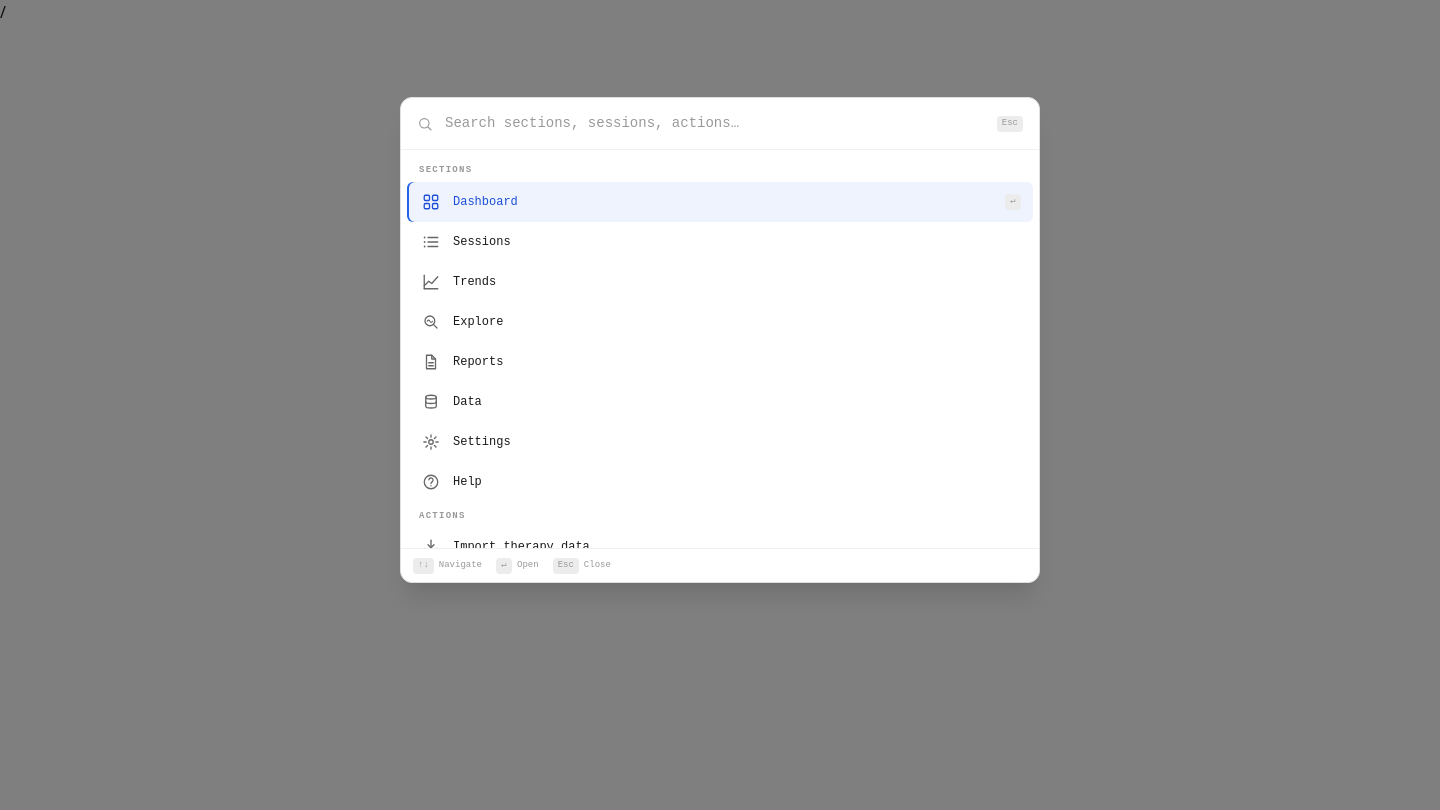
Test: CommandPalette › session date-jump › shows a no-result message when no session exists on the parsed date
Type "2026-01-01" into the dropdown.
click(715, 124); type("2026-01-01")  # box [443,112,987,135]
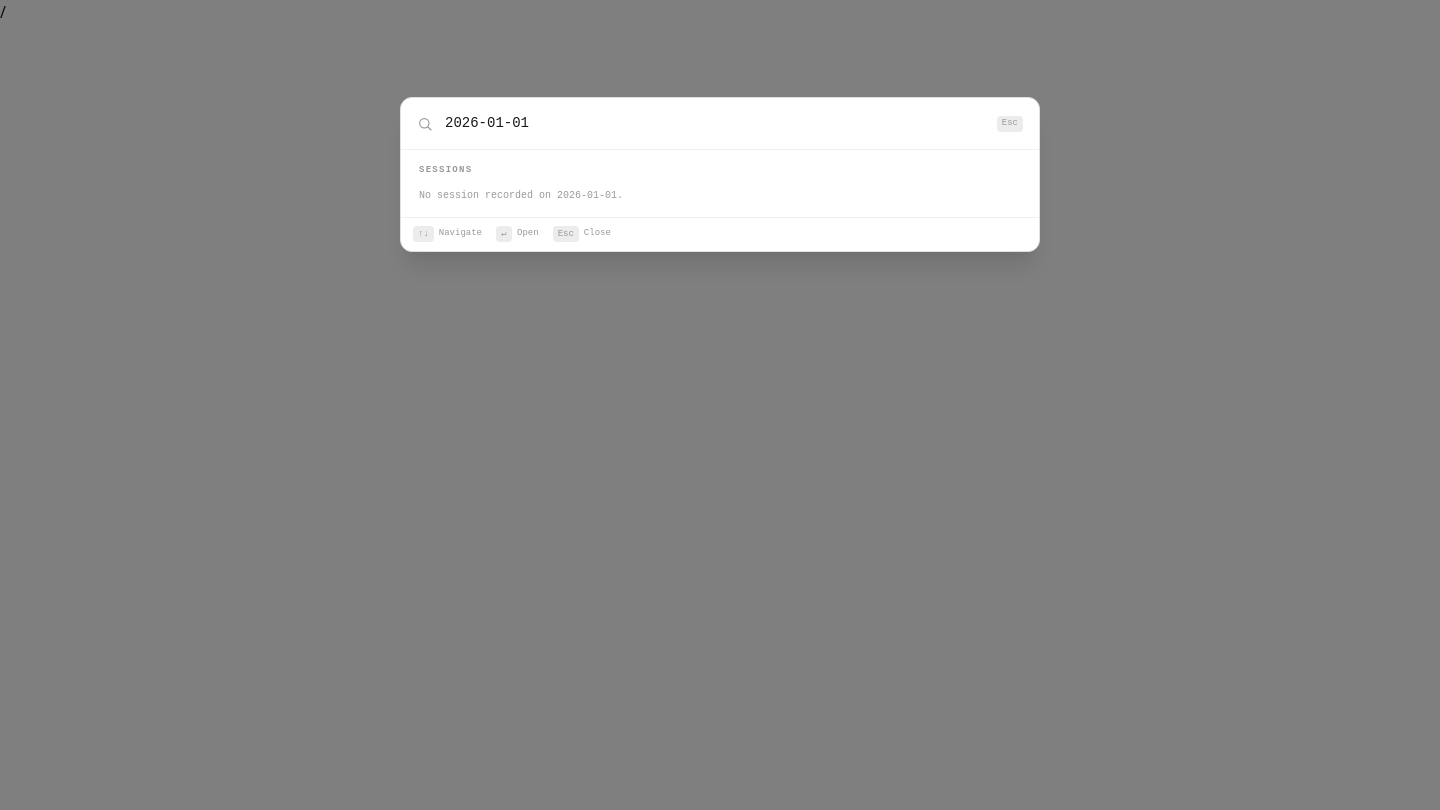
Expected: the list item "No session recorded on 2026-01-01." is shown, [419,190,623,201]
Expected: no options are shown
